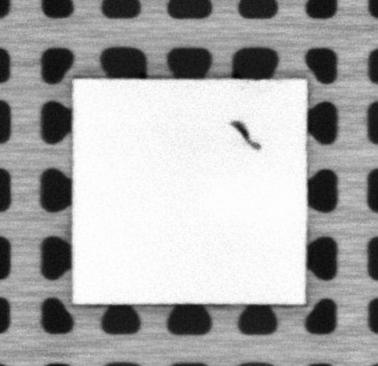DIE_INK: (230, 119, 262, 151)
